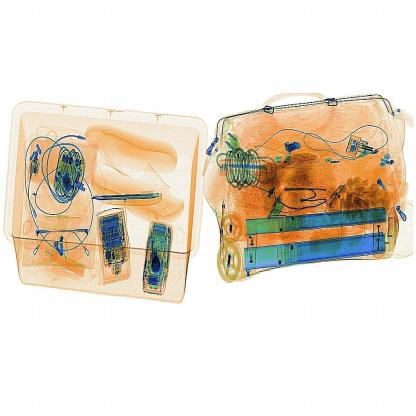pliers: (89, 188, 164, 207)
